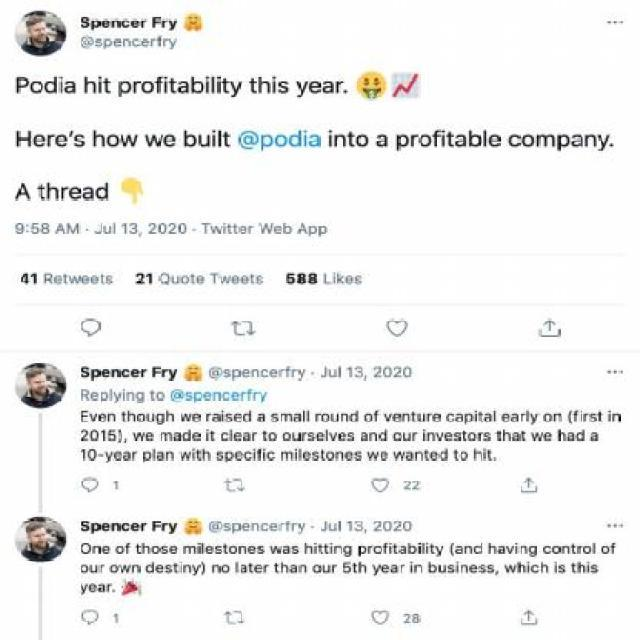0: (402, 365, 412, 378), (402, 520, 412, 532), (158, 222, 167, 235), (178, 222, 187, 235), (90, 429, 99, 442), (88, 448, 97, 461), (384, 365, 392, 378), (384, 520, 392, 532)
1: (30, 272, 38, 285), (121, 222, 128, 235), (146, 272, 152, 285), (346, 366, 352, 379), (100, 429, 106, 442), (346, 520, 352, 532), (81, 448, 85, 460), (114, 479, 118, 490), (114, 613, 118, 624)
2: (136, 272, 146, 285), (392, 365, 402, 378), (148, 222, 157, 235), (168, 222, 177, 235), (80, 429, 89, 442), (374, 365, 382, 378), (393, 519, 401, 532), (373, 520, 381, 532), (404, 479, 412, 490), (403, 612, 411, 623), (412, 479, 419, 490)
3: (354, 520, 363, 532), (130, 222, 138, 235), (354, 366, 362, 379)
4: (18, 272, 30, 285)
5: (287, 272, 296, 285), (108, 429, 117, 442), (32, 222, 40, 235), (343, 561, 351, 574)
8: (296, 272, 309, 285), (308, 272, 318, 285), (41, 222, 50, 235), (412, 612, 420, 625)
9: (14, 222, 24, 235)
A: (15, 182, 30, 200), (62, 80, 76, 94), (454, 134, 468, 148), (570, 134, 584, 148), (376, 134, 389, 148), (54, 222, 68, 235), (321, 81, 334, 94), (308, 134, 320, 148), (83, 186, 94, 200), (297, 222, 308, 235), (178, 80, 188, 94), (282, 544, 292, 556), (97, 583, 106, 594), (211, 412, 220, 422), (292, 413, 302, 422), (567, 432, 576, 442), (390, 564, 399, 574), (258, 412, 266, 423), (484, 412, 492, 423), (157, 452, 166, 461), (174, 432, 182, 442), (243, 432, 251, 442), (512, 432, 520, 442), (590, 432, 598, 442), (498, 544, 506, 554), (240, 564, 248, 574), (290, 564, 298, 574), (455, 413, 463, 422), (512, 413, 520, 422), (406, 452, 414, 461), (361, 432, 368, 442), (398, 546, 406, 554), (455, 546, 463, 554), (123, 452, 131, 459)
B: (184, 129, 198, 148), (468, 129, 482, 148), (190, 75, 203, 94), (283, 221, 292, 234), (408, 542, 416, 555), (428, 561, 436, 574)
C: (508, 134, 521, 148), (220, 432, 229, 442), (266, 451, 276, 460), (121, 522, 130, 532), (260, 522, 269, 532), (447, 412, 455, 422), (542, 545, 552, 553), (132, 38, 140, 47), (121, 369, 130, 377), (260, 369, 269, 377), (532, 564, 540, 573), (122, 20, 130, 28), (222, 392, 230, 400), (243, 452, 252, 459)
D: (96, 182, 110, 200), (44, 77, 58, 94), (289, 130, 302, 147), (182, 429, 192, 442), (242, 410, 252, 422), (146, 560, 154, 574), (378, 428, 386, 441), (576, 429, 584, 442), (474, 542, 482, 555), (440, 448, 448, 460), (351, 409, 358, 422)
E: (308, 80, 322, 94), (32, 134, 46, 148), (54, 134, 68, 148), (162, 134, 176, 148), (488, 134, 502, 148), (69, 186, 82, 200), (80, 409, 89, 422), (112, 38, 121, 48), (141, 38, 150, 48), (238, 224, 248, 233), (131, 522, 140, 532), (430, 450, 438, 461), (233, 413, 242, 422), (113, 452, 122, 461), (234, 451, 243, 460), (89, 584, 98, 593), (102, 368, 110, 378), (145, 432, 153, 442), (192, 432, 200, 442), (316, 432, 324, 442), (338, 432, 346, 442), (444, 432, 452, 442), (544, 432, 552, 442), (102, 522, 110, 532), (53, 276, 62, 284), (81, 276, 90, 284), (90, 276, 99, 284), (241, 276, 250, 284), (130, 369, 139, 377), (90, 392, 99, 400), (204, 392, 212, 401), (231, 392, 240, 400), (98, 414, 107, 422), (192, 413, 200, 422), (393, 413, 401, 422), (432, 413, 440, 422), (233, 432, 242, 440), (302, 451, 310, 460), (344, 451, 352, 460), (380, 451, 388, 460), (204, 545, 213, 553), (156, 564, 164, 573), (253, 565, 262, 573), (131, 20, 140, 28), (102, 19, 110, 27), (274, 226, 282, 234), (196, 276, 204, 284), (232, 276, 240, 284), (345, 276, 353, 284), (242, 370, 250, 378), (270, 369, 278, 377), (242, 524, 250, 532), (270, 524, 278, 532), (102, 546, 110, 554), (170, 546, 178, 554), (248, 545, 256, 553), (470, 565, 478, 573), (382, 564, 389, 573), (502, 414, 509, 422)
F: (154, 75, 162, 94), (432, 129, 440, 148), (152, 16, 160, 29), (152, 366, 160, 379), (152, 520, 160, 532), (286, 365, 292, 378), (284, 519, 290, 532), (124, 542, 130, 555), (610, 542, 616, 555), (246, 388, 252, 400), (256, 448, 262, 460), (383, 542, 388, 555), (156, 36, 162, 46), (374, 409, 378, 422), (574, 410, 578, 422)
G: (528, 544, 538, 558), (156, 412, 164, 426), (343, 544, 351, 558), (136, 391, 144, 404)
H: (15, 130, 32, 147), (92, 129, 106, 148), (46, 182, 60, 200), (258, 75, 271, 94), (84, 76, 96, 95), (517, 560, 526, 574), (304, 541, 313, 554), (280, 560, 288, 574), (359, 560, 367, 574), (540, 560, 548, 574), (578, 560, 586, 574), (128, 409, 136, 422), (166, 409, 174, 422), (503, 428, 511, 441), (558, 428, 566, 441), (142, 542, 150, 555), (488, 542, 496, 555), (202, 448, 210, 460), (474, 448, 482, 460)
I: (440, 129, 446, 148), (215, 75, 220, 94), (272, 75, 277, 94), (205, 76, 210, 93), (303, 130, 308, 147), (59, 75, 63, 94), (212, 129, 216, 148), (98, 76, 102, 93), (416, 542, 421, 555), (526, 561, 531, 574), (164, 75, 167, 94), (314, 541, 318, 554), (514, 541, 518, 554), (122, 388, 126, 400), (608, 410, 612, 422), (262, 448, 266, 460), (294, 448, 298, 460), (423, 428, 426, 442), (554, 560, 557, 574), (586, 560, 589, 574), (223, 221, 226, 234), (333, 272, 336, 285), (474, 409, 477, 422), (206, 428, 209, 441), (197, 541, 200, 554), (330, 542, 333, 555), (426, 542, 429, 555), (410, 561, 413, 574), (330, 129, 332, 148), (192, 448, 195, 460), (253, 448, 256, 460), (483, 448, 486, 460), (390, 542, 392, 556), (456, 560, 458, 574), (580, 409, 582, 422), (180, 561, 182, 574), (222, 410, 224, 421)
J: (320, 365, 328, 378), (319, 520, 327, 532), (94, 223, 102, 234)
K: (337, 272, 345, 285)
L: (324, 274, 332, 284), (152, 447, 156, 461), (112, 222, 116, 235), (302, 409, 306, 422), (484, 130, 487, 147), (493, 408, 496, 422), (306, 409, 309, 422), (526, 409, 529, 422), (201, 542, 204, 555), (593, 542, 596, 555), (212, 76, 214, 93), (218, 130, 220, 147), (236, 560, 238, 574), (338, 366, 340, 379), (230, 428, 232, 441), (326, 428, 328, 441), (338, 519, 340, 532), (422, 542, 424, 555), (298, 448, 300, 460), (110, 388, 112, 400)
M: (536, 134, 556, 148), (66, 222, 80, 235), (159, 432, 172, 440), (280, 452, 294, 459), (280, 414, 292, 422), (184, 546, 196, 554)
N: (584, 134, 598, 148), (334, 134, 346, 148), (111, 522, 120, 532), (251, 522, 260, 532), (211, 564, 220, 573), (112, 18, 120, 28), (122, 38, 130, 48), (554, 412, 562, 422), (464, 544, 472, 554), (298, 565, 308, 573), (335, 451, 343, 460), (132, 564, 140, 573), (414, 564, 422, 573), (460, 564, 468, 573), (126, 392, 136, 399), (212, 392, 222, 399), (112, 369, 120, 377), (250, 369, 258, 377), (108, 414, 116, 422), (402, 414, 410, 422), (612, 414, 620, 422), (369, 432, 377, 440), (427, 432, 435, 440), (92, 546, 100, 554), (238, 546, 246, 554), (334, 545, 342, 553), (519, 545, 527, 553), (562, 545, 570, 553), (183, 565, 191, 573), (341, 414, 348, 422), (165, 452, 173, 459), (414, 452, 422, 459)
O: (140, 80, 154, 94), (106, 134, 120, 148), (274, 134, 288, 148), (522, 134, 536, 148), (30, 81, 44, 94), (356, 134, 369, 148), (419, 134, 432, 148), (79, 542, 92, 555), (136, 412, 146, 422), (312, 564, 322, 573), (221, 564, 230, 573), (268, 432, 276, 442), (282, 432, 290, 442), (394, 432, 402, 442), (228, 546, 238, 554), (582, 545, 592, 553), (157, 392, 166, 400), (460, 451, 468, 460), (115, 545, 124, 553), (151, 546, 160, 554), (80, 564, 88, 573), (110, 564, 118, 573), (467, 432, 476, 440), (322, 412, 329, 422), (180, 276, 188, 284), (364, 414, 372, 422), (544, 414, 552, 422), (374, 545, 382, 553), (552, 545, 560, 553), (602, 545, 610, 553), (326, 452, 334, 459)
P: (118, 80, 132, 98), (396, 134, 410, 151), (260, 134, 274, 150), (16, 77, 29, 94), (558, 134, 570, 152), (193, 391, 202, 404), (319, 225, 327, 238), (464, 412, 472, 425), (225, 451, 233, 464), (92, 522, 100, 535), (232, 522, 240, 535), (142, 452, 152, 462), (103, 39, 112, 50), (91, 369, 100, 380), (92, 19, 100, 30), (309, 226, 317, 237), (232, 368, 240, 379), (100, 392, 108, 402), (358, 546, 366, 556)
Q: (158, 272, 171, 286)
R: (43, 272, 52, 285), (80, 388, 89, 401), (133, 79, 141, 93), (335, 80, 343, 94), (60, 186, 68, 200), (48, 134, 56, 148), (411, 134, 418, 148), (160, 369, 168, 377), (150, 38, 156, 48), (163, 38, 169, 48), (206, 412, 212, 422), (426, 412, 432, 422), (141, 522, 147, 532), (162, 522, 168, 532), (100, 564, 106, 573), (263, 564, 269, 573), (106, 584, 112, 593), (252, 432, 257, 442), (302, 432, 307, 442), (141, 19, 147, 27), (162, 19, 168, 27), (248, 226, 254, 234), (141, 369, 147, 377), (278, 369, 284, 377), (240, 392, 246, 400), (252, 392, 258, 400), (314, 413, 320, 421), (520, 414, 526, 422), (412, 432, 418, 440), (477, 432, 483, 440), (291, 523, 297, 531), (577, 545, 583, 553), (332, 564, 337, 573), (400, 564, 405, 573), (132, 452, 138, 459), (292, 368, 296, 378), (279, 523, 284, 531), (584, 414, 588, 422), (368, 545, 372, 553)
S: (276, 80, 290, 94), (72, 134, 86, 148), (80, 16, 89, 29), (80, 366, 89, 379), (80, 520, 89, 532), (589, 412, 597, 423), (270, 413, 279, 422), (94, 38, 102, 48), (255, 274, 263, 284), (223, 368, 231, 378), (308, 432, 316, 442), (453, 432, 461, 442), (223, 522, 231, 532), (257, 544, 265, 554), (347, 432, 355, 441), (483, 432, 491, 441), (216, 451, 224, 460), (354, 451, 362, 460), (447, 564, 455, 573), (478, 564, 486, 573), (487, 564, 495, 573), (558, 564, 566, 573), (105, 276, 113, 284), (354, 276, 362, 284), (160, 545, 168, 553), (292, 546, 300, 554), (590, 565, 598, 573), (165, 564, 172, 573), (185, 392, 192, 400), (225, 414, 232, 422), (312, 452, 320, 459), (215, 546, 222, 554)
T: (248, 77, 258, 94), (102, 78, 111, 94), (347, 130, 355, 148), (169, 77, 177, 94), (37, 184, 46, 199), (223, 130, 231, 146), (446, 131, 454, 147), (201, 222, 210, 235), (210, 271, 219, 284), (222, 77, 228, 94), (98, 274, 105, 284), (226, 223, 232, 234), (62, 273, 68, 284), (150, 390, 156, 401), (121, 411, 127, 422), (210, 430, 216, 441), (462, 430, 468, 441), (496, 431, 502, 442), (520, 430, 526, 441), (196, 449, 202, 460), (423, 449, 429, 460), (486, 449, 492, 460), (134, 543, 140, 554), (322, 543, 328, 554), (570, 543, 576, 554), (173, 562, 179, 573), (248, 562, 254, 573), (274, 562, 280, 573), (478, 411, 484, 422), (233, 222, 238, 235), (250, 272, 255, 285), (190, 274, 196, 284), (318, 544, 324, 554), (263, 430, 268, 441), (320, 449, 325, 460), (393, 543, 398, 554), (352, 562, 357, 573), (223, 544, 228, 554), (430, 544, 435, 554), (412, 411, 416, 422), (598, 411, 602, 422), (572, 562, 576, 573), (454, 449, 458, 460)
U: (198, 134, 211, 148), (146, 414, 156, 422), (292, 432, 300, 442), (403, 432, 411, 442), (171, 276, 180, 284), (418, 413, 426, 422), (90, 564, 98, 573), (322, 564, 330, 573), (331, 412, 338, 422), (104, 226, 112, 234), (329, 523, 337, 531), (438, 565, 446, 573), (328, 369, 336, 377)
V: (384, 412, 392, 422), (89, 414, 97, 422), (435, 432, 443, 440), (329, 432, 337, 440), (506, 546, 514, 554)
W: (144, 134, 164, 148), (120, 134, 138, 148), (258, 222, 274, 235), (132, 432, 146, 442), (179, 412, 192, 422), (530, 432, 544, 441), (366, 451, 380, 460), (504, 564, 518, 573), (179, 451, 192, 460), (68, 276, 82, 284), (268, 546, 282, 554), (209, 225, 222, 233), (219, 276, 232, 284), (119, 565, 132, 573), (392, 452, 406, 459)
Y: (229, 80, 242, 98), (296, 80, 309, 98), (598, 134, 610, 152), (168, 368, 178, 381), (168, 522, 178, 535), (530, 412, 539, 426), (105, 451, 114, 464), (297, 522, 306, 535), (372, 564, 380, 578), (80, 582, 88, 596), (168, 20, 178, 31), (298, 368, 306, 381), (113, 391, 121, 404), (259, 391, 267, 404), (435, 545, 443, 558), (192, 564, 200, 576), (169, 39, 177, 50)
